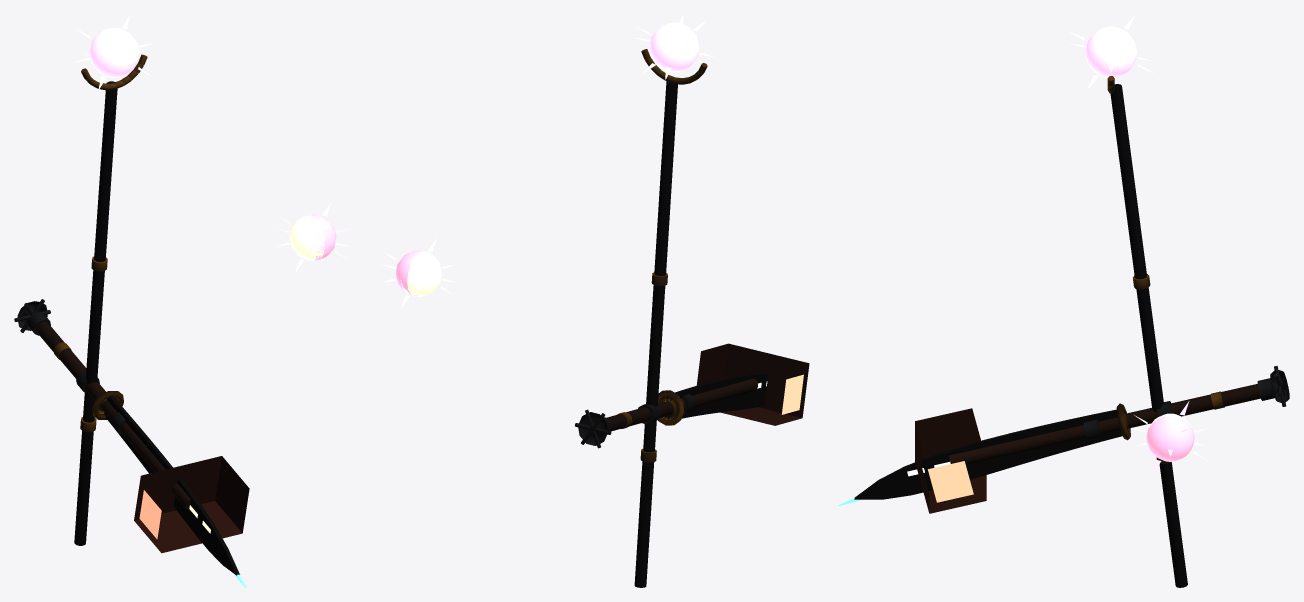
Rendered from shaddai_weapons_v01.glb.
3 renders of one model, left to right at view 1: azimuth 30°, elevation 25°; view 2: azimuth 150°, elevation 25°; view 3: azimuth 270°, elevation 25°, orthographic. The views are drawn at different scales.
Visible parts, largest first — view 1: acc_hand_rune_hammer, acc_hand_orb_staff, acc_hand_quill_blade, acc_hand_orb_gold, acc_hand_orb_crimson, acc_hand_plasma_katana; view 2: acc_hand_orb_staff, acc_hand_rune_hammer, acc_hand_quill_blade, acc_hand_orb_gold; view 3: acc_hand_rune_hammer, acc_hand_orb_staff, acc_hand_quill_blade, acc_hand_orb_crimson.
Part boxes in pixels (left/top/right/bottom): acc_hand_rune_hammer: left=14, top=299, right=249, bottom=553; acc_hand_orb_staff: left=74, top=14, right=153, bottom=545; acc_hand_quill_blade: left=98, top=396, right=239, bottom=575; acc_hand_orb_gold: left=278, top=202, right=345, bottom=272; acc_hand_orb_crimson: left=276, top=214, right=349, bottom=260; acc_hand_plasma_katana: left=53, top=342, right=246, bottom=587; acc_hand_orb_staff: left=634, top=15, right=714, bottom=587; acc_hand_rune_hammer: left=575, top=343, right=809, bottom=448; acc_hand_quill_blade: left=658, top=373, right=767, bottom=419; acc_hand_orb_gold: left=383, top=251, right=453, bottom=308; acc_hand_rune_hammer: left=915, top=366, right=1289, bottom=513; acc_hand_orb_staff: left=1068, top=15, right=1187, bottom=587; acc_hand_quill_blade: left=854, top=409, right=1130, bottom=499; acc_hand_orb_crimson: left=1132, top=401, right=1209, bottom=474.
Bounding box in the file's own units: 1.06 × 1.78 × 1.3.
